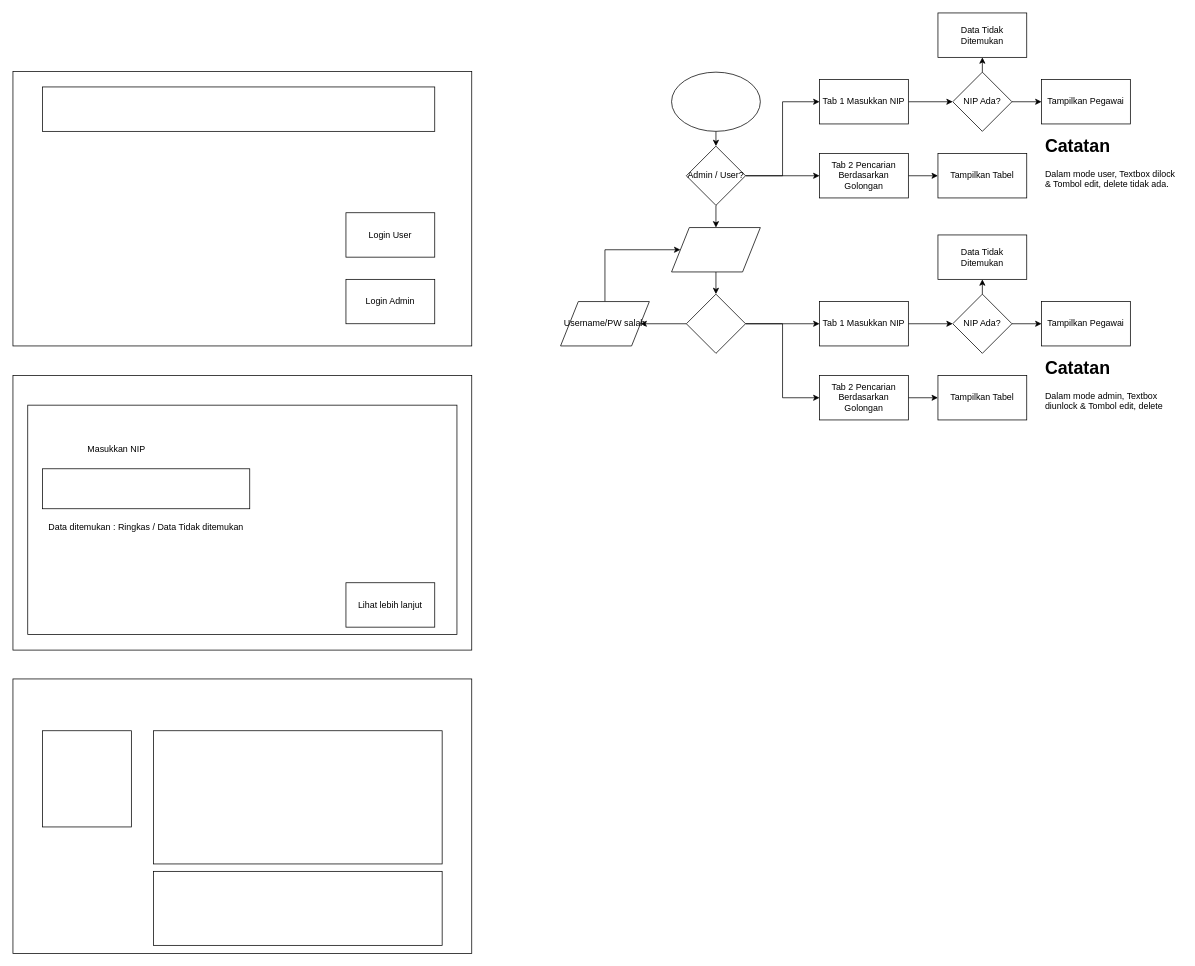
The diagram is 1195 pixels wide and 966 high, and some of its shapes have lost their labels. The centre of each missing label's shape, as x and y in pixels:
Benar?: point 716,323
Berkas: point 297,908
Data Diri: point 297,797
Deperin: point 238,108
Foto: point 86,778
Start: point 715,101
User Name & PW: point 715,249
